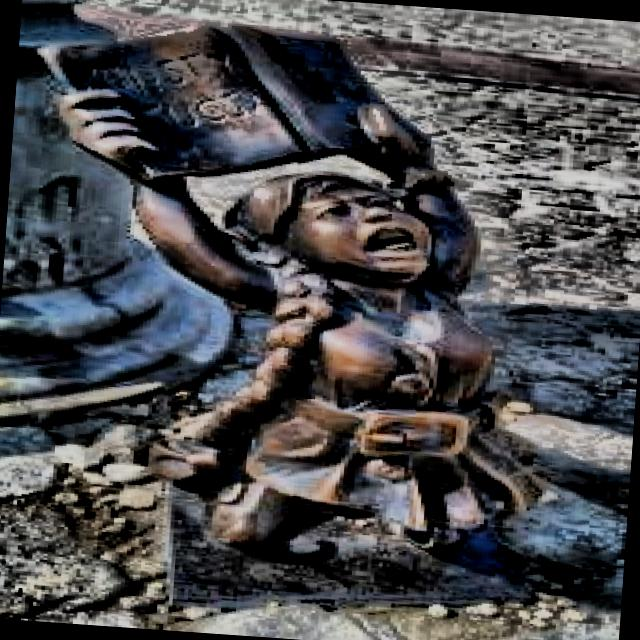Demokracja: (42, 26, 538, 551)
